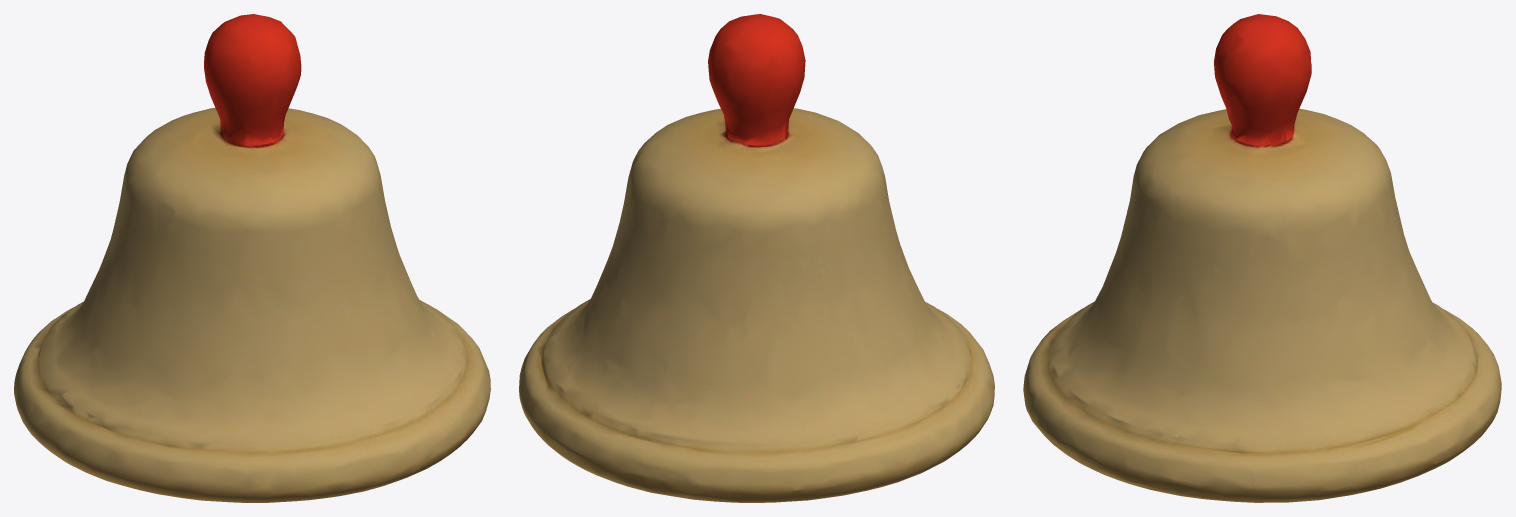
Rendered from bell.glb.
3 renders of one model, left to right at view 1: azimuth 30°, elevation 25°; view 2: azimuth 150°, elevation 25°; view 3: azimuth 270°, elevation 25°, orthographic.
Visible parts, largest first — view 1: tripo_node_97b89c0b-5ec0-4c5d-a3e7-0a7169ed6a8b; view 2: tripo_node_97b89c0b-5ec0-4c5d-a3e7-0a7169ed6a8b; view 3: tripo_node_97b89c0b-5ec0-4c5d-a3e7-0a7169ed6a8b.
Boxes of the visible parts, x1,y1,x2,y2 form: tripo_node_97b89c0b-5ec0-4c5d-a3e7-0a7169ed6a8b: (14, 14, 490, 502); tripo_node_97b89c0b-5ec0-4c5d-a3e7-0a7169ed6a8b: (519, 14, 994, 502); tripo_node_97b89c0b-5ec0-4c5d-a3e7-0a7169ed6a8b: (1023, 14, 1501, 502).
Size of the model in its own units: 0.9949 by 1 by 0.9943.
Materials: 1 (1 with a texture image).
